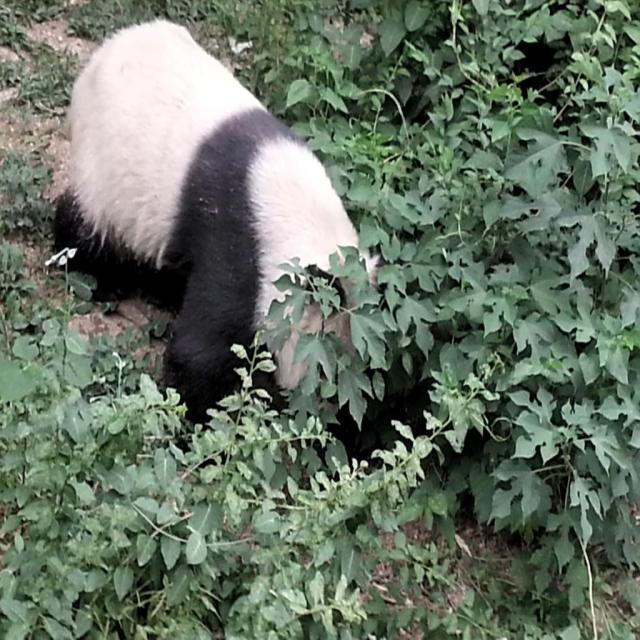panda: (50, 19, 382, 429)
